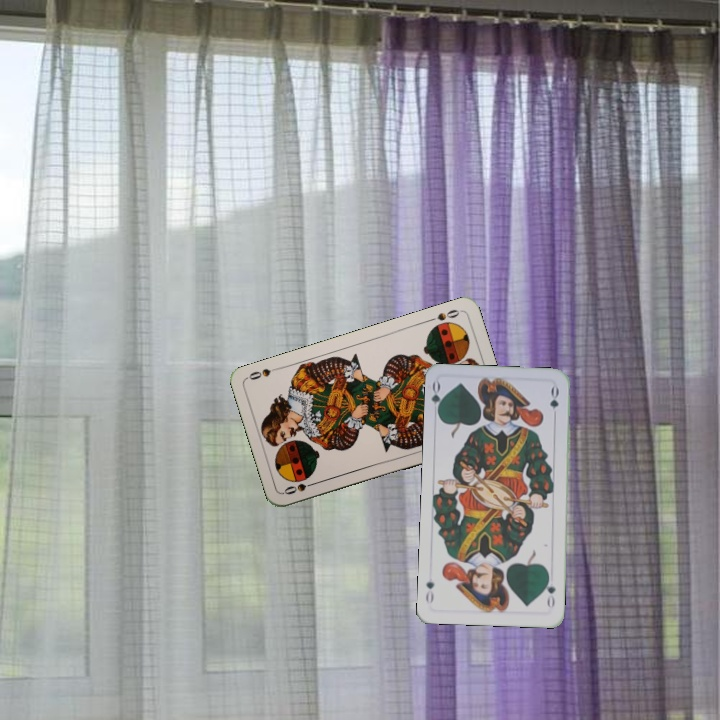GO: (427, 378, 447, 419), (541, 571, 558, 611)
SO: (424, 305, 463, 325), (280, 478, 320, 497)
